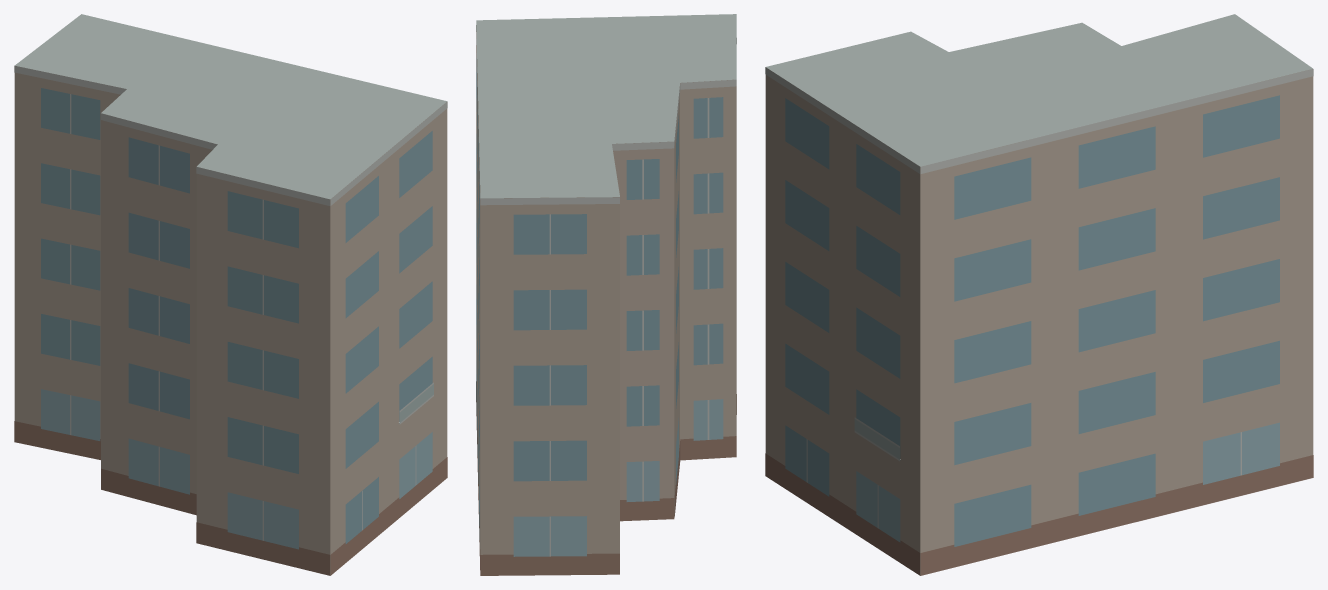
Rendered from survey-upis-32762171.glb.
3 renders of one model, left to right at view 1: azimuth 30°, elevation 25°; view 2: azimuth 150°, elevation 25°; view 3: azimuth 270°, elevation 25°, orthographic. The views are drawn at different scales.
Visible parts, largest first — view 1: survey-upis-32762171.tmp; view 2: survey-upis-32762171.tmp; view 3: survey-upis-32762171.tmp.
Part boxes in pixels (box(x1,y1,x2,y2)): survey-upis-32762171.tmp: box(14, 14, 447, 575); survey-upis-32762171.tmp: box(476, 14, 736, 575); survey-upis-32762171.tmp: box(765, 14, 1313, 575).
Bounding box in the file's own units: 10.75 × 13.4 × 16.28.
